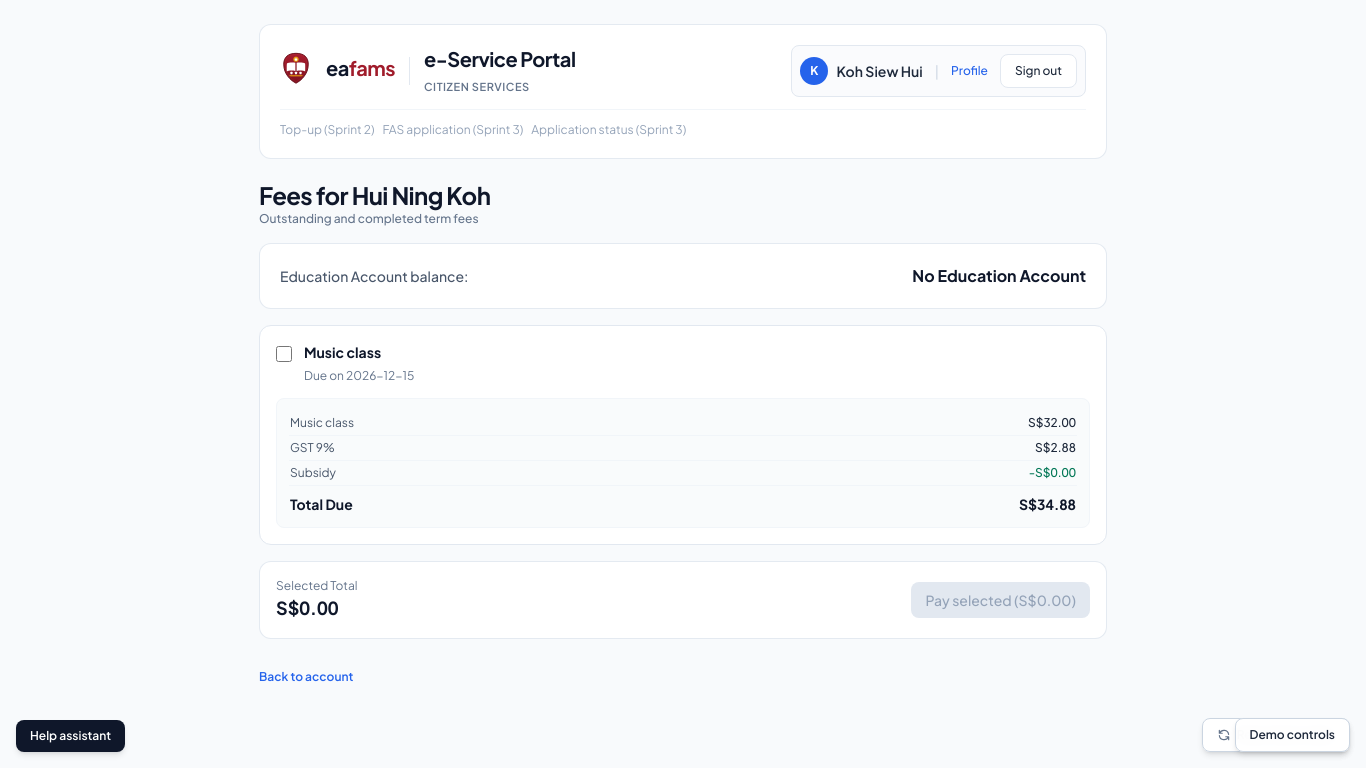
Test: admin publishes a fee batch; the parent sees the new charge and pays it online
Click the checkbox named "select music class" at (284, 354), box [276, 346, 292, 362]
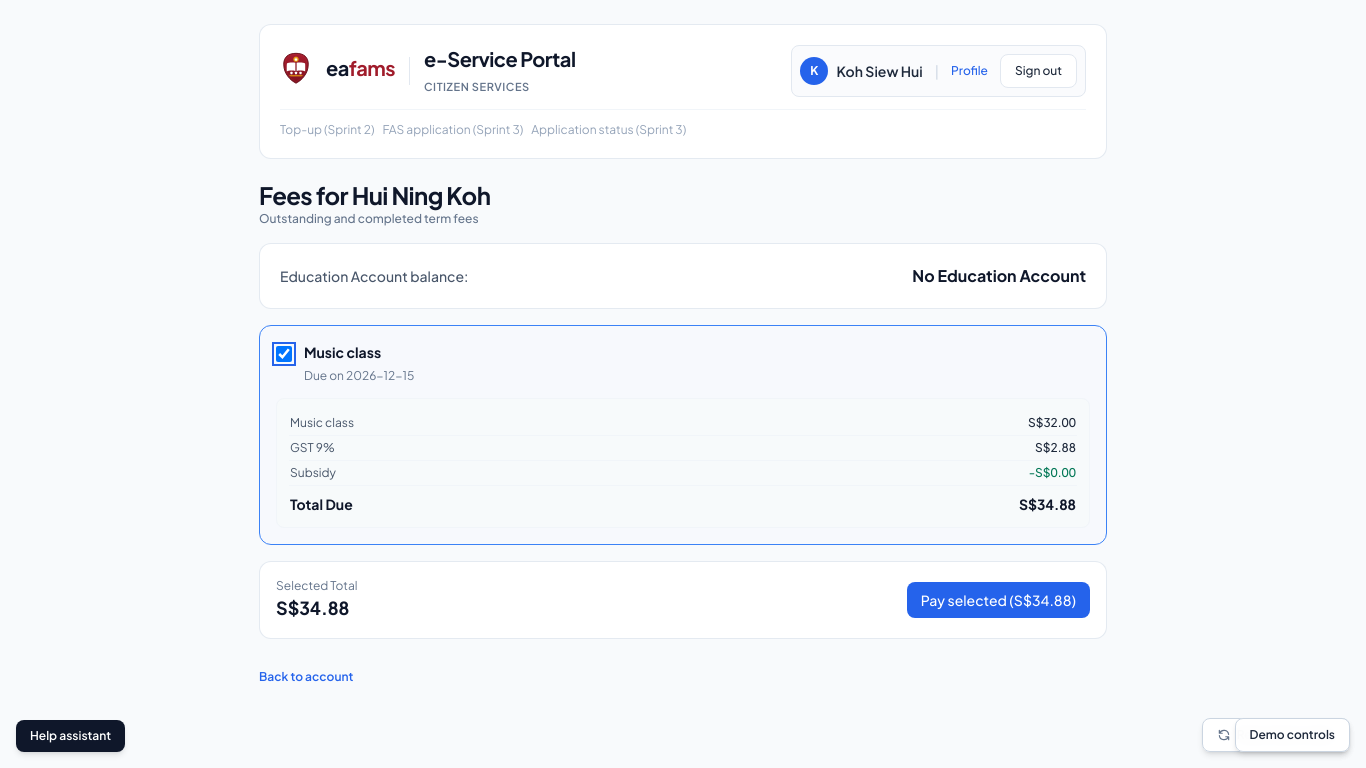
Click the button "Pay selected (S$34.88)" at (998, 600), box [907, 582, 1090, 618]
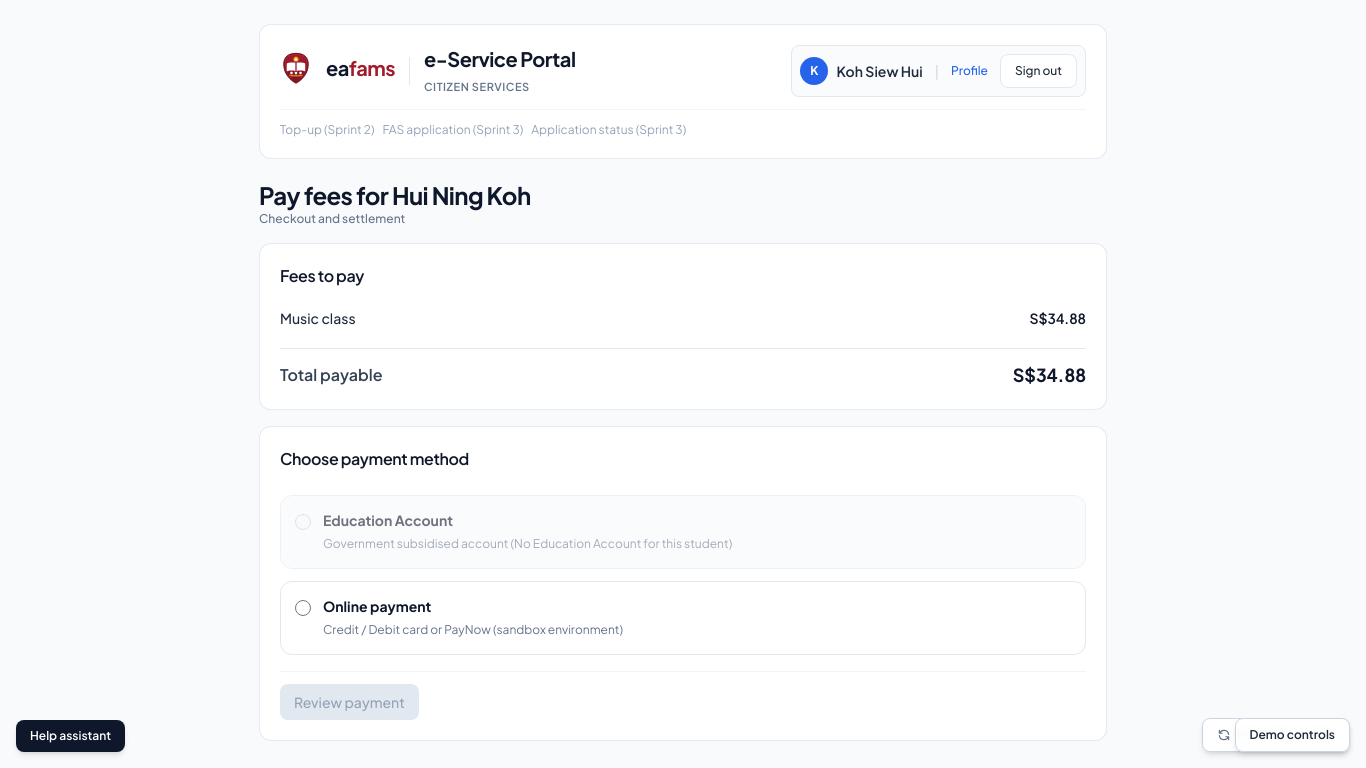
Click the radio button labelled "Online payment" at (303, 608), box [295, 600, 311, 616]
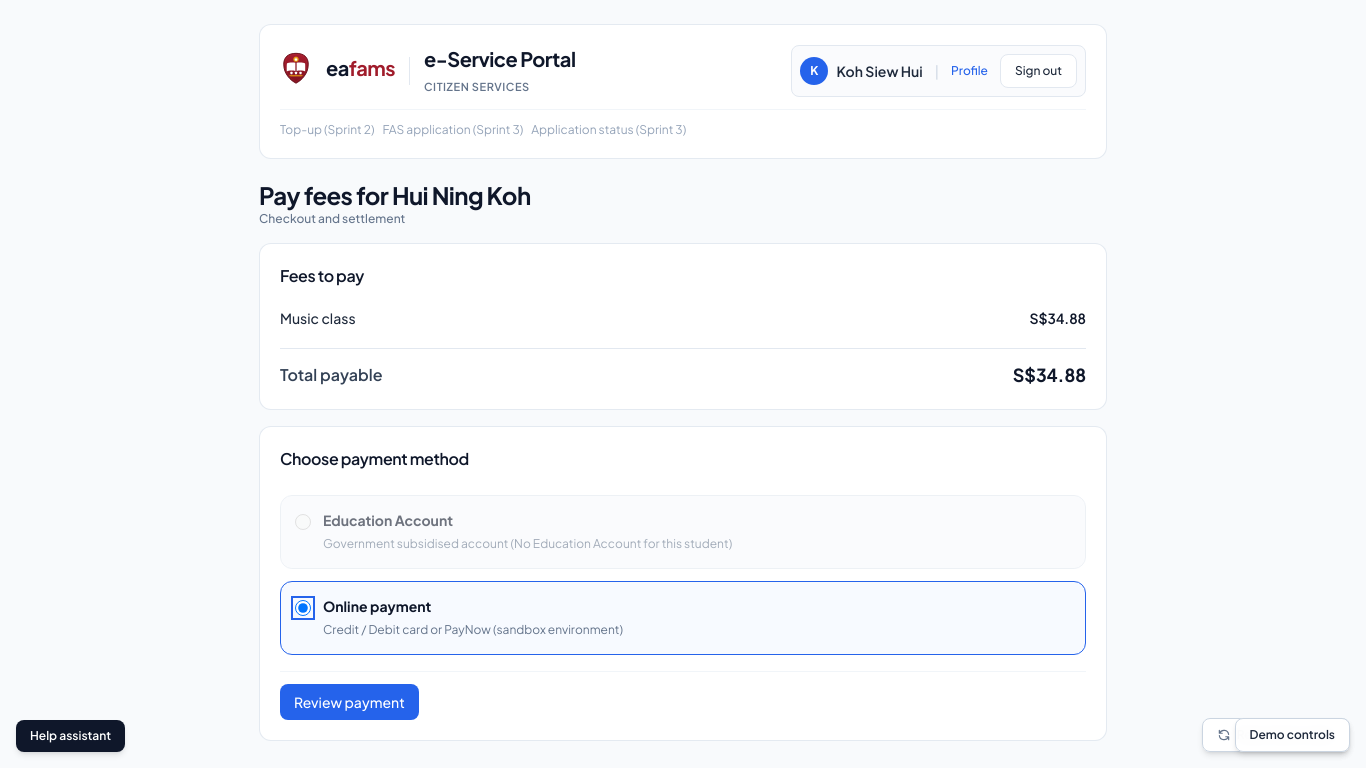
Click the button "Review payment" at (349, 702), box [280, 684, 419, 720]
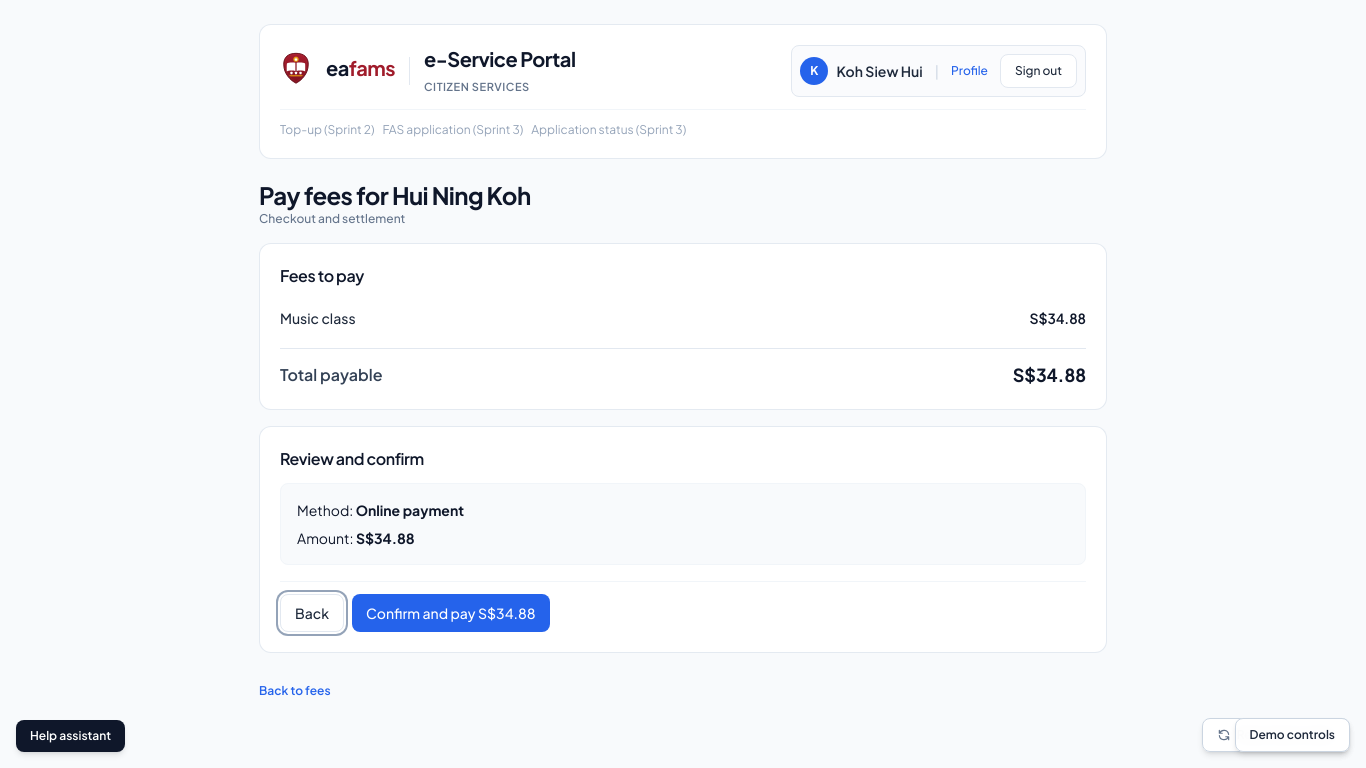
Click the button "Confirm and pay S$34.88" at (451, 613), box [352, 594, 550, 632]
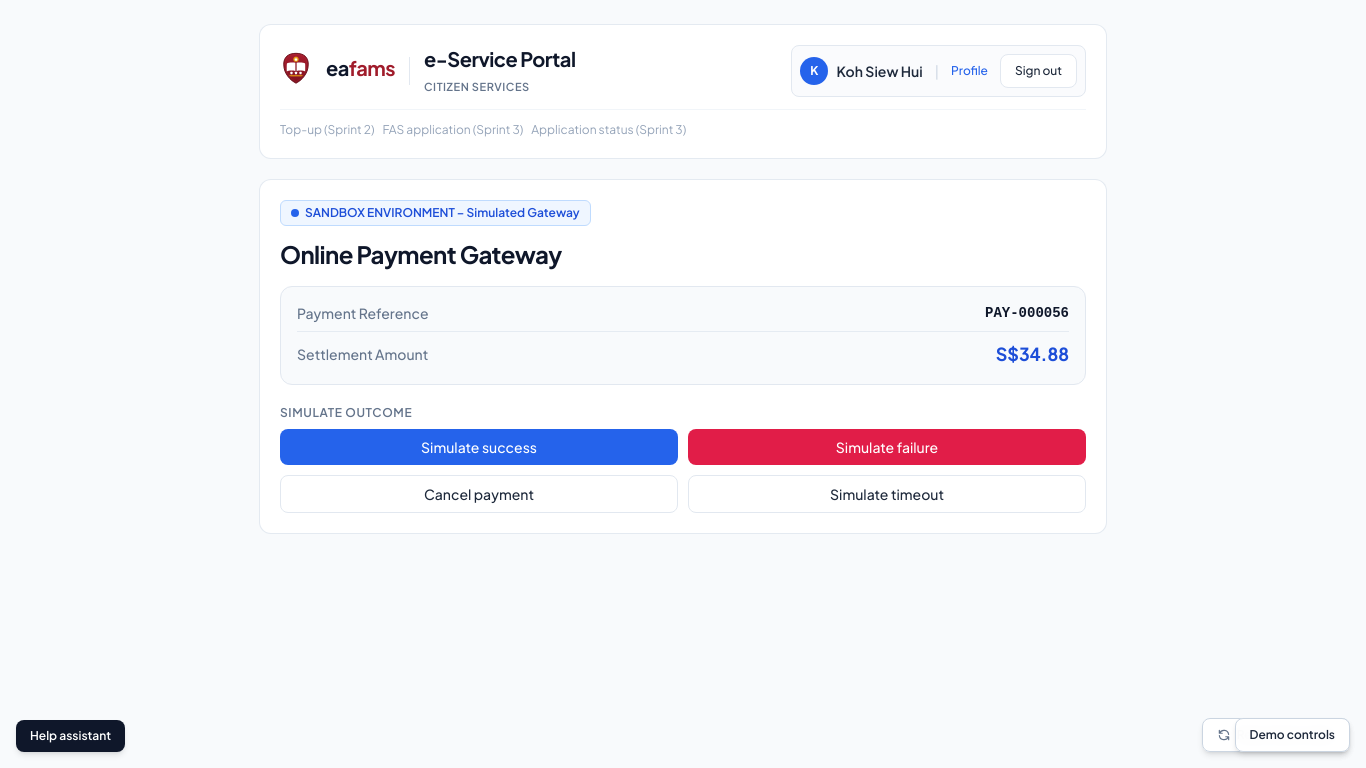
Click the button "Simulate success" at (479, 447), box [280, 429, 678, 465]
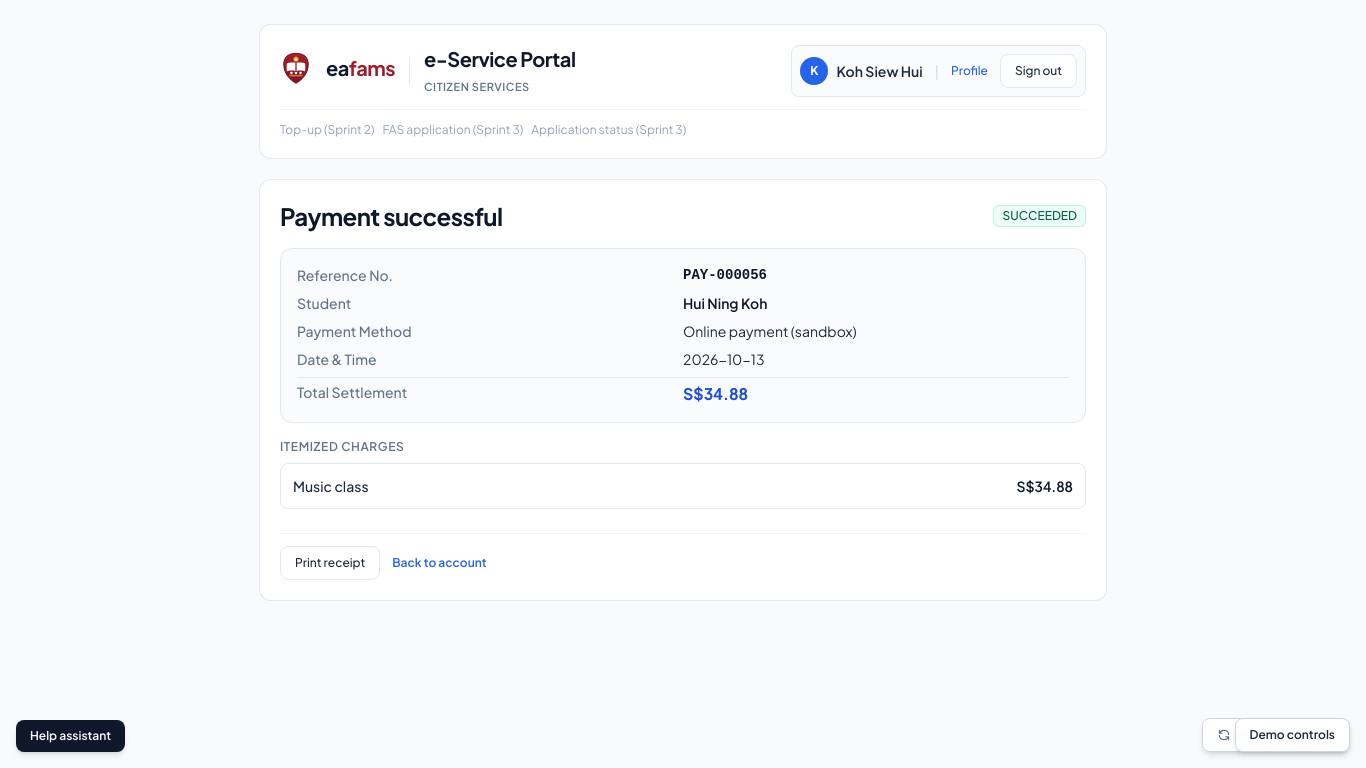
Now the heading "Payment successful" is shown, box [280, 200, 502, 232]
